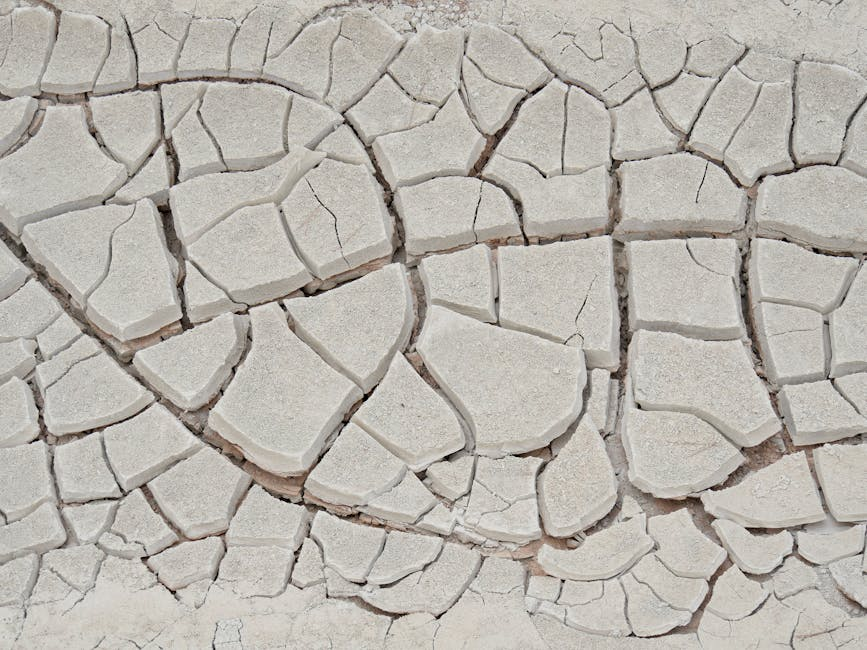深大裂缝: (121, 259, 425, 332), (715, 251, 811, 457), (594, 266, 642, 457)
网状裂隙: (428, 40, 784, 219), (102, 389, 308, 585), (572, 530, 840, 633)
